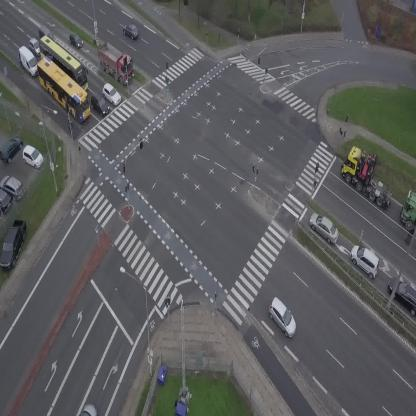bus: (29, 53, 100, 123), (31, 33, 97, 93)
car: (261, 295, 305, 340), (344, 241, 386, 279), (304, 209, 344, 246), (98, 81, 124, 107), (87, 91, 112, 118), (64, 29, 86, 52), (121, 20, 141, 41), (38, 26, 53, 39), (29, 38, 38, 56)
lorry: (333, 141, 408, 210), (88, 36, 142, 88), (12, 44, 43, 80), (401, 191, 416, 231)
